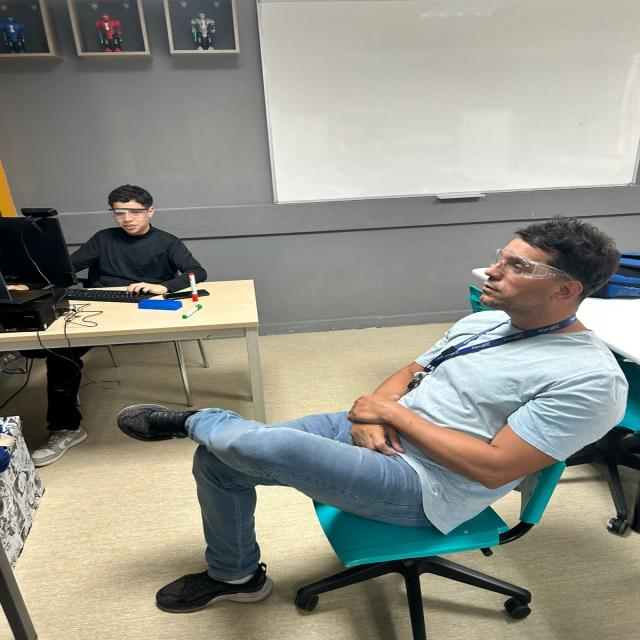oculos-epi: (491, 248, 576, 281), (109, 206, 151, 219)
